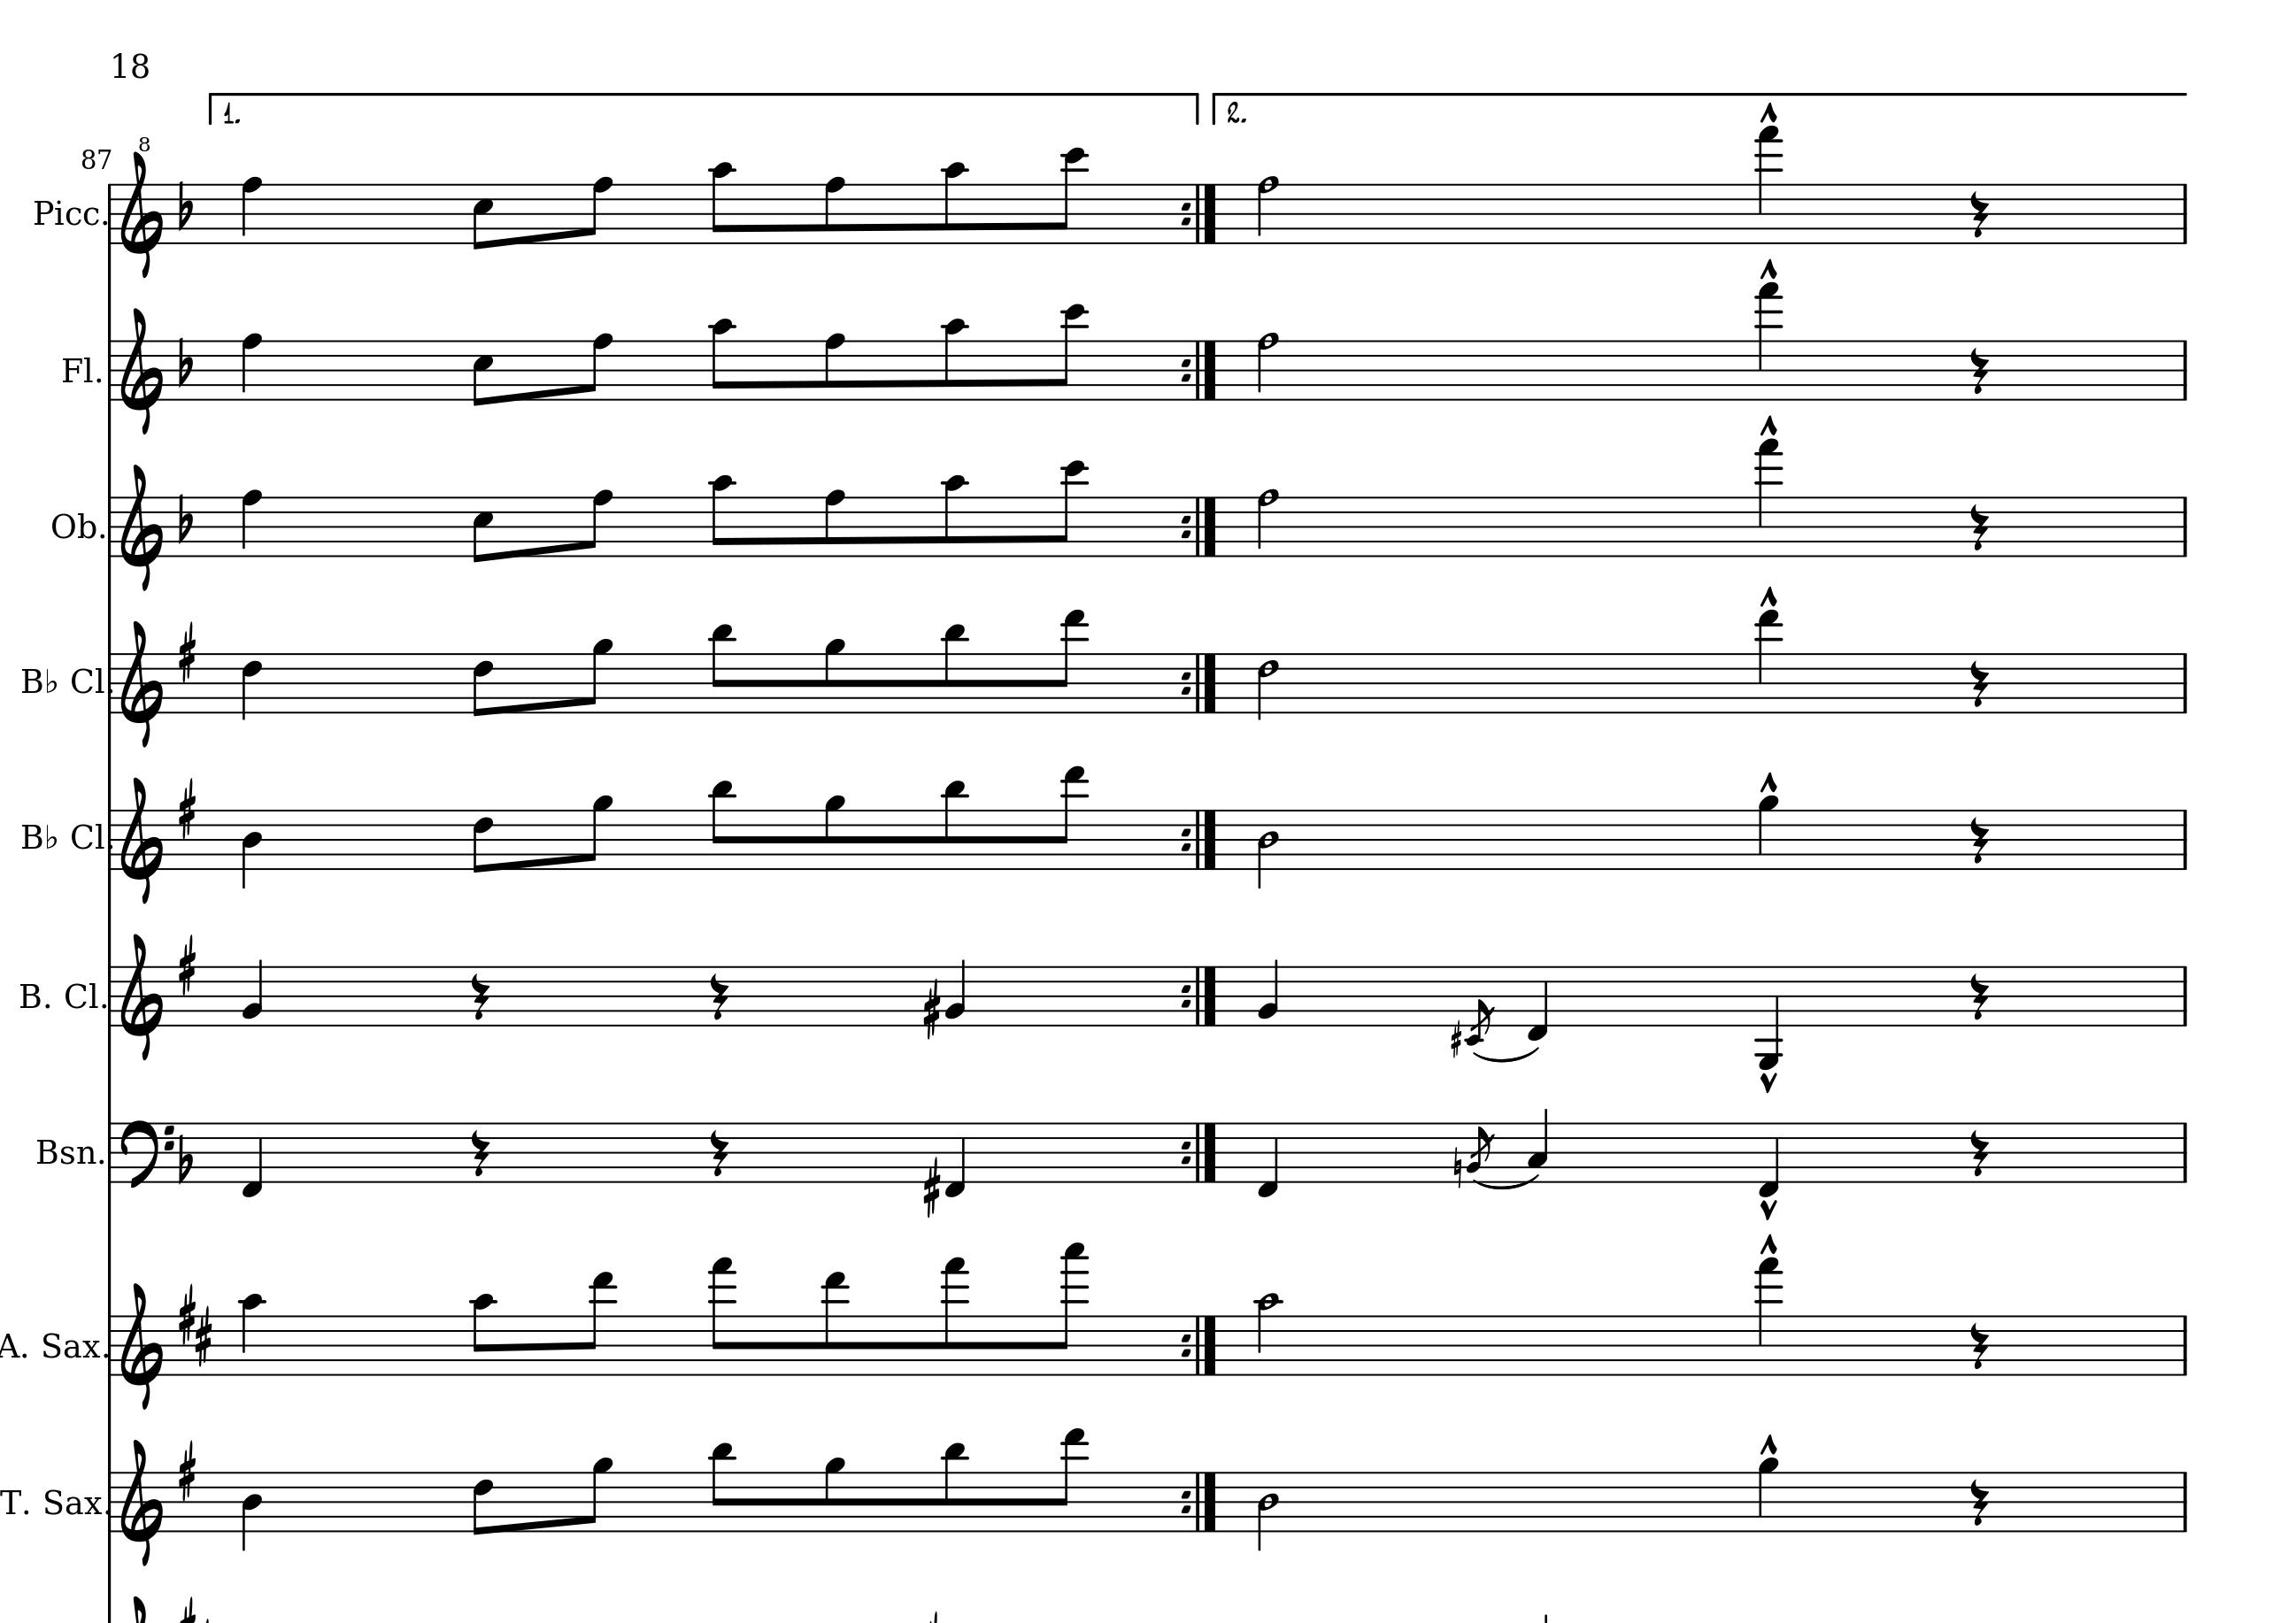1: (111, 49, 126, 79)
2_10: (1254, 1291, 1282, 1377)
2_4: (1256, 806, 1281, 891), (1256, 1468, 1281, 1553)
2_6: (1256, 650, 1284, 722)
2_8: (1256, 328, 1281, 402), (1256, 174, 1281, 246), (1256, 487, 1281, 559)
4_-1: (241, 1119, 265, 1198), (1256, 1119, 1281, 1198), (1758, 1119, 1781, 1200), (1527, 963, 1549, 1042), (945, 1119, 968, 1198)
4_-5: (1755, 963, 1783, 1070)
4_10: (239, 1291, 264, 1377)
4_13: (943, 1254, 968, 1377), (1755, 610, 1781, 715)
4_15: (1755, 125, 1783, 246), (1755, 281, 1783, 402), (1755, 437, 1783, 559), (1755, 1256, 1781, 1377)
4_2: (242, 957, 265, 1029), (1258, 956, 1281, 1028), (945, 957, 968, 1028)
4_3: (1527, 1105, 1549, 1184)
4_4: (241, 806, 265, 891), (241, 1468, 264, 1551)
4_6: (241, 650, 265, 722)
4_8: (241, 330, 264, 402), (241, 487, 264, 559), (241, 176, 264, 246)
4_9: (1757, 792, 1780, 871), (1757, 1454, 1780, 1533)
7: (95, 146, 112, 170)
8: (130, 49, 151, 79), (79, 146, 95, 170)
8_10: (471, 1291, 495, 1377), (943, 160, 968, 244), (943, 316, 968, 400), (943, 472, 968, 557)
8_11: (710, 622, 736, 715), (942, 622, 968, 715), (710, 778, 736, 871), (942, 778, 968, 871), (710, 1440, 736, 1533), (942, 1440, 968, 1533), (711, 160, 736, 246), (711, 316, 736, 402), (711, 472, 736, 557)
8_12: (1051, 300, 1087, 402), (1051, 457, 1087, 559), (1052, 144, 1086, 246)
8_13: (1054, 608, 1086, 715), (1054, 764, 1086, 871), (583, 1270, 615, 1377), (1054, 1426, 1086, 1533), (822, 1270, 847, 1377)
8_15: (1054, 1242, 1086, 1375), (708, 1256, 738, 1375)
8_5: (473, 337, 495, 408), (473, 495, 495, 564), (473, 181, 494, 251)
8_6: (473, 650, 495, 718), (473, 806, 495, 875), (473, 1468, 495, 1537)
8_8: (583, 330, 613, 402), (583, 174, 613, 244), (583, 487, 613, 557), (824, 330, 847, 402), (824, 488, 847, 557), (824, 176, 845, 246)
8_9: (585, 792, 613, 871), (585, 636, 613, 713), (585, 1454, 613, 1532), (824, 638, 847, 715), (824, 794, 847, 871), (824, 1456, 845, 1533)
Acciaccature: (1463, 966, 1495, 1047), (1465, 1117, 1493, 1177)
Bsn: (37, 1136, 97, 1170)
Cl: (61, 977, 98, 1013), (69, 662, 104, 697), (69, 819, 104, 852)
D_S: (176, 1280, 216, 1365)
Fclef: (119, 1117, 174, 1187)
Fl: (60, 353, 93, 386)
Flat: (176, 334, 195, 388), (176, 1131, 195, 1186), (176, 490, 195, 543), (176, 179, 193, 230)
Gclef: (119, 460, 165, 592), (119, 304, 165, 434), (119, 775, 165, 905), (119, 931, 165, 1061), (119, 1437, 165, 1567), (119, 618, 165, 747), (119, 1282, 165, 1410)
High_Gclef: (118, 130, 165, 278)
Marcato_above: (1757, 100, 1780, 125), (1757, 769, 1778, 794), (1757, 1432, 1778, 1456), (1758, 1196, 1780, 1219), (1758, 1230, 1778, 1254), (1758, 1071, 1780, 1093), (1758, 256, 1778, 279), (1758, 413, 1778, 436), (1758, 585, 1778, 608)
Natural: (1453, 1145, 1463, 1189)
Ob: (51, 508, 97, 543)
Picc: (28, 195, 100, 230)
Prima_volta: (204, 91, 1205, 130)
Rests4: (1967, 657, 1990, 710), (1967, 1477, 1990, 1530), (1967, 344, 1990, 395), (1967, 501, 1990, 552), (1967, 815, 1990, 866), (469, 1128, 492, 1179), (708, 1128, 731, 1179), (1967, 1128, 1990, 1179), (1967, 1321, 1990, 1372), (1969, 188, 1990, 239), (708, 971, 729, 1022), (1969, 971, 1990, 1022), (469, 971, 490, 1021)
RightRepeatSign: (1179, 1121, 1221, 1182), (1179, 1470, 1221, 1530), (1180, 181, 1221, 242), (1180, 495, 1221, 555), (1179, 964, 1219, 1024), (1180, 1314, 1221, 1374), (1180, 652, 1219, 713), (1182, 339, 1221, 399), (1180, 808, 1219, 868)
Sax: (40, 1330, 100, 1363), (42, 1486, 102, 1519)
Seconda_volta: (1209, 90, 2187, 128)
Sharp: (176, 775, 197, 838), (176, 1437, 197, 1500), (176, 933, 197, 994), (921, 1156, 942, 1217), (177, 618, 197, 682), (922, 977, 942, 1038), (1449, 1019, 1463, 1057)
Single_barline: (2171, 339, 2196, 400), (2171, 495, 2196, 557), (2171, 652, 2196, 713), (2171, 808, 2196, 869), (2171, 1121, 2196, 1182), (2171, 1314, 2196, 1375), (2171, 1470, 2196, 1532), (2171, 183, 2196, 242), (2171, 966, 2196, 1026), (102, 1122, 118, 1182), (104, 339, 118, 400), (104, 652, 118, 713), (104, 808, 118, 869), (104, 1470, 118, 1532), (104, 497, 118, 557), (104, 966, 118, 1026), (104, 1316, 118, 1375), (104, 183, 116, 244)
Slur: (1472, 1047, 1541, 1063)
